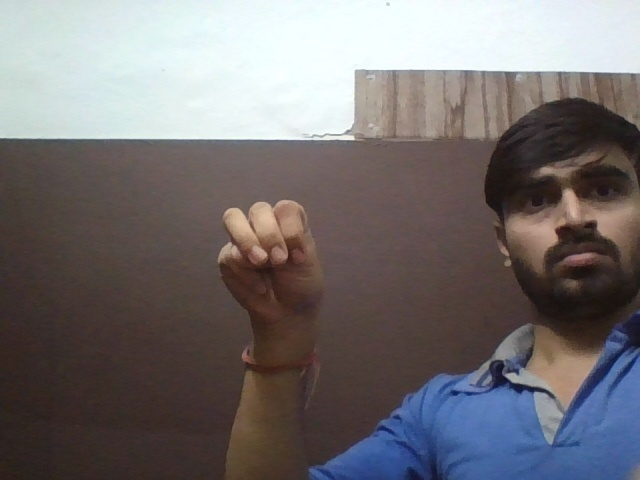M: (187, 197, 341, 333)
